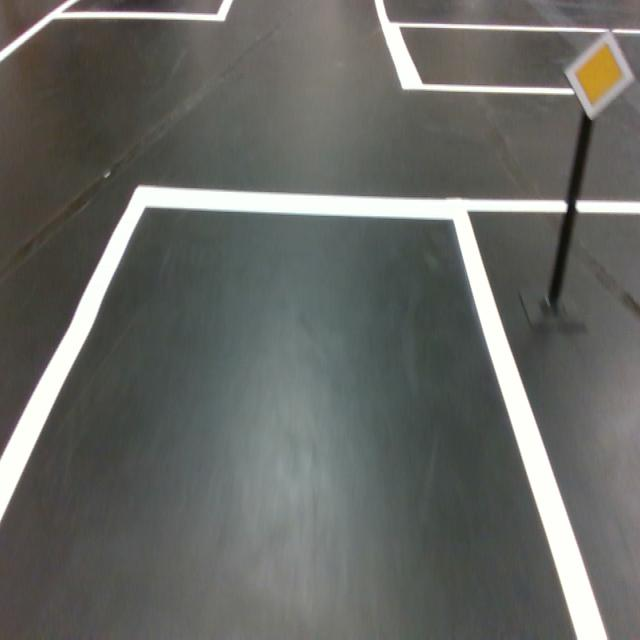priority-sign: (563, 30, 636, 121)
